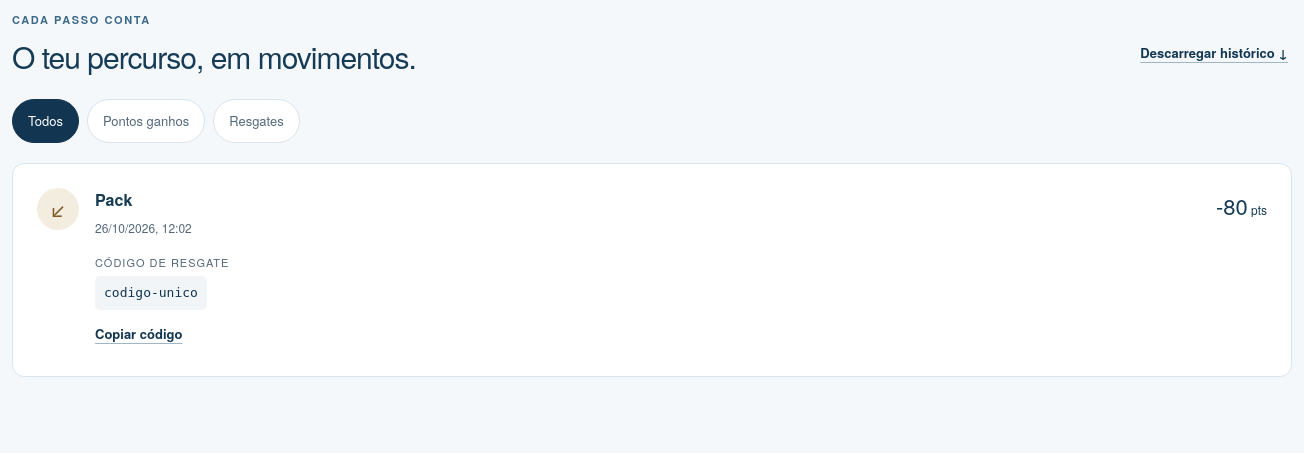
Test: copia o código completo e confirma a ação
The image size is (1304, 453).
Click the button with aria-label "Copiar código de Pack" at (139,334), box [95, 316, 182, 352]
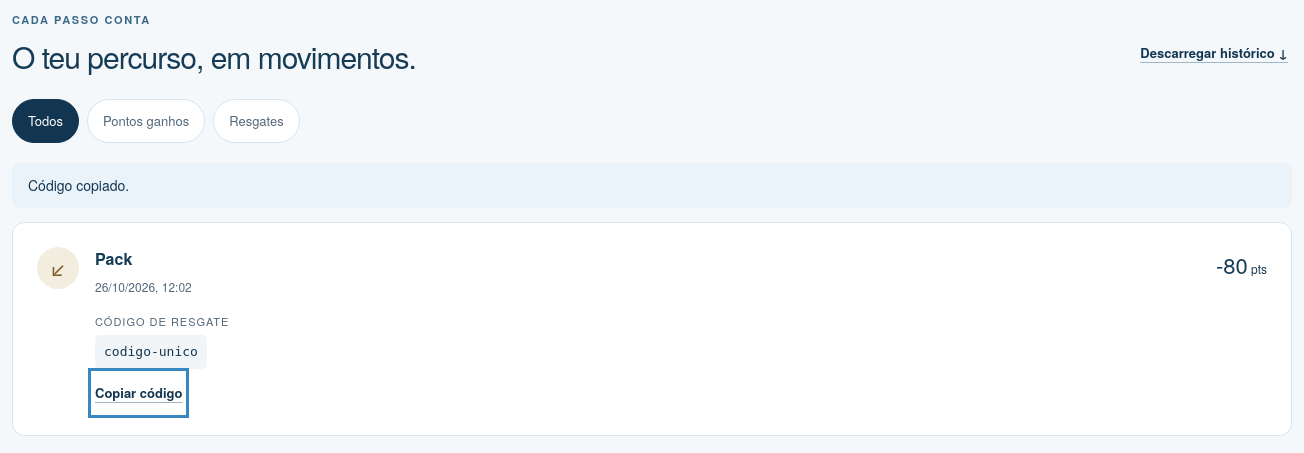
Expected: the message reads "Código copiado.", [28, 174, 129, 194]
